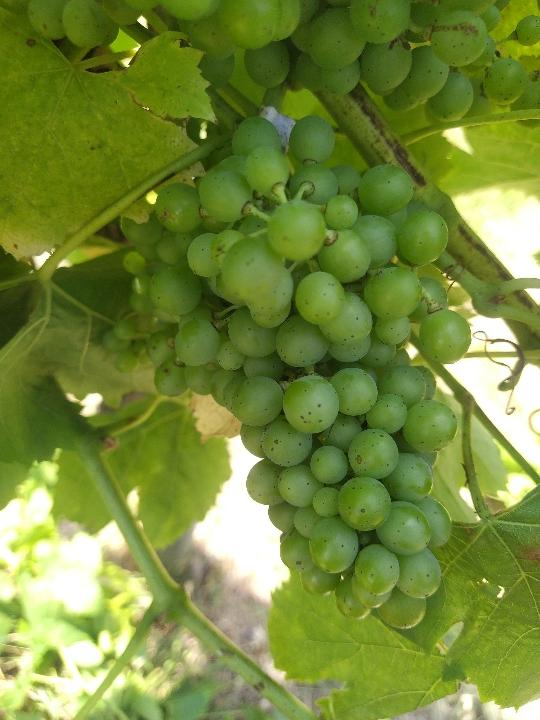grape: (119, 111, 478, 632)
